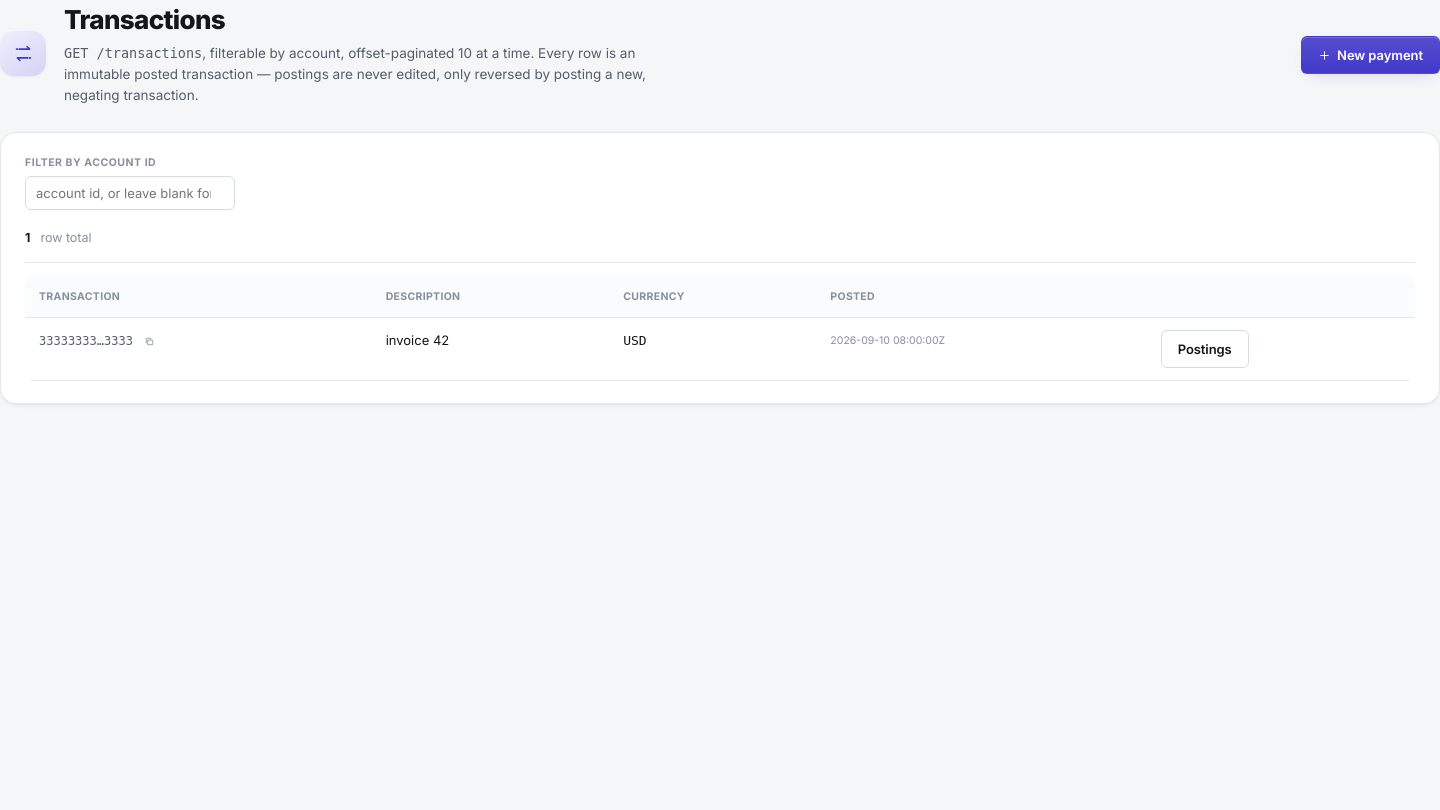
Test: LedgerTransactionsPage › reverses a transaction from its expanded postings, behind a confirm dialog
Click the button "Postings". click: (1205, 349)
box: [1161,330,1249,368]
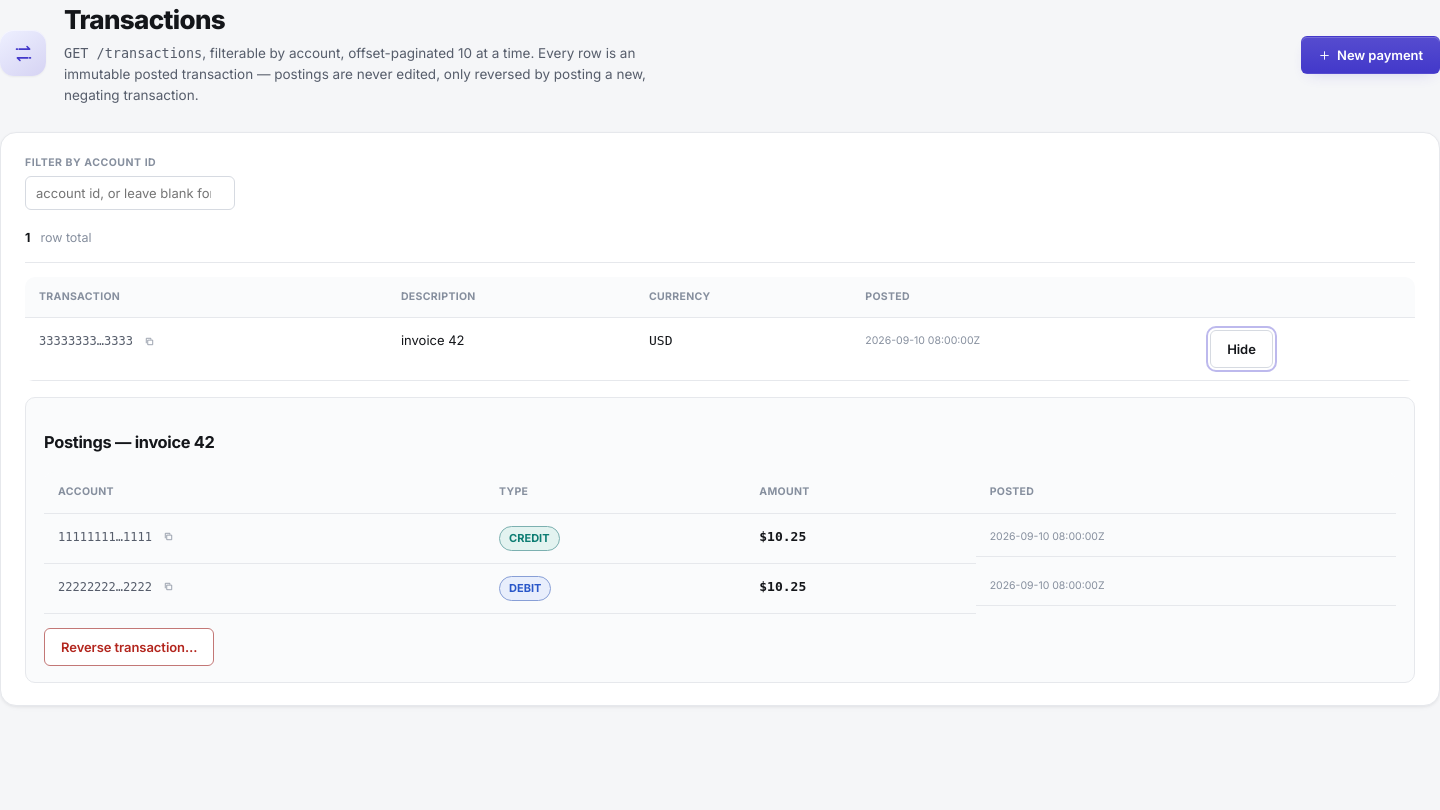
Click the button "Reverse transaction…". click: (129, 647)
box: [44,628,214,666]
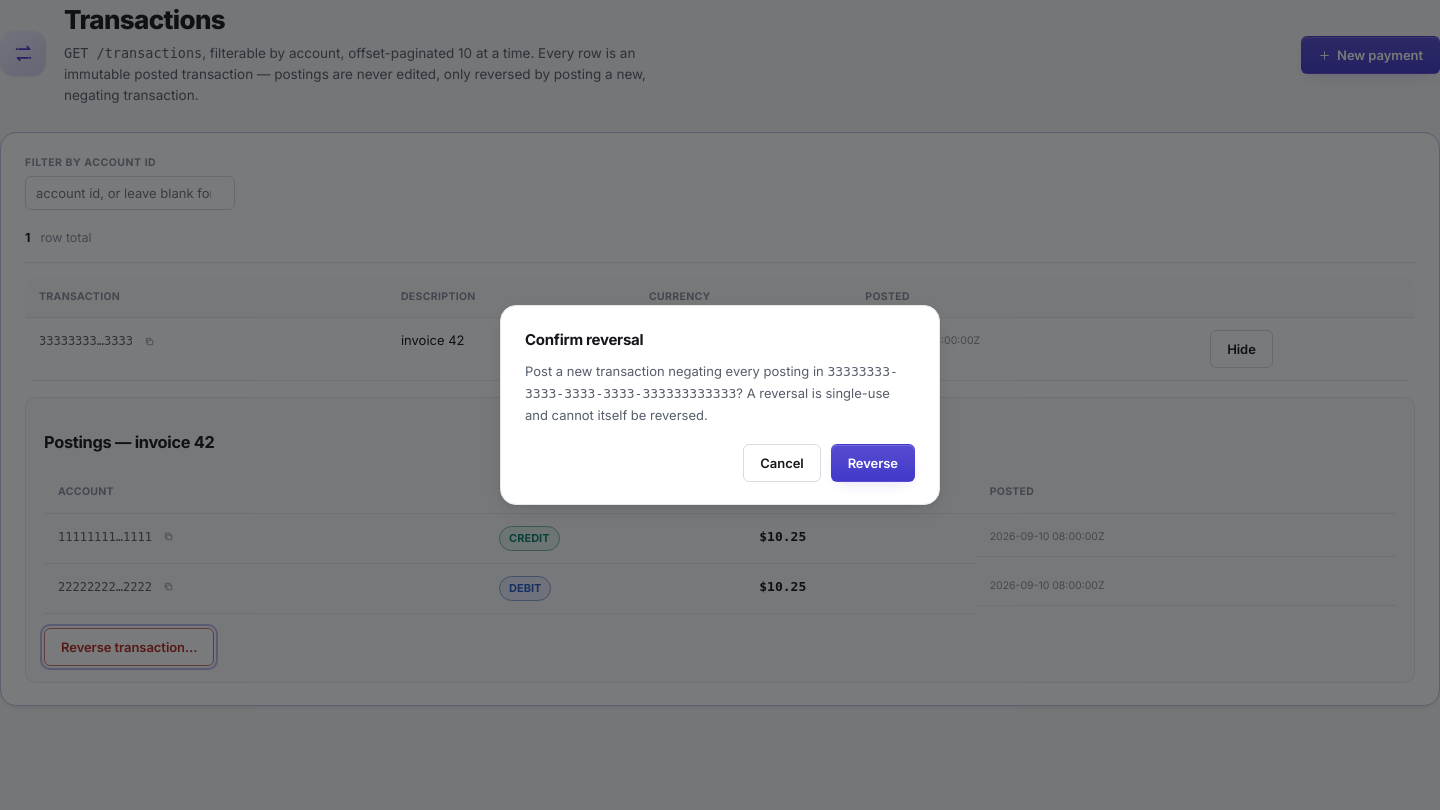
Click the button "Reverse". click: (873, 463)
box: [831,444,915,482]
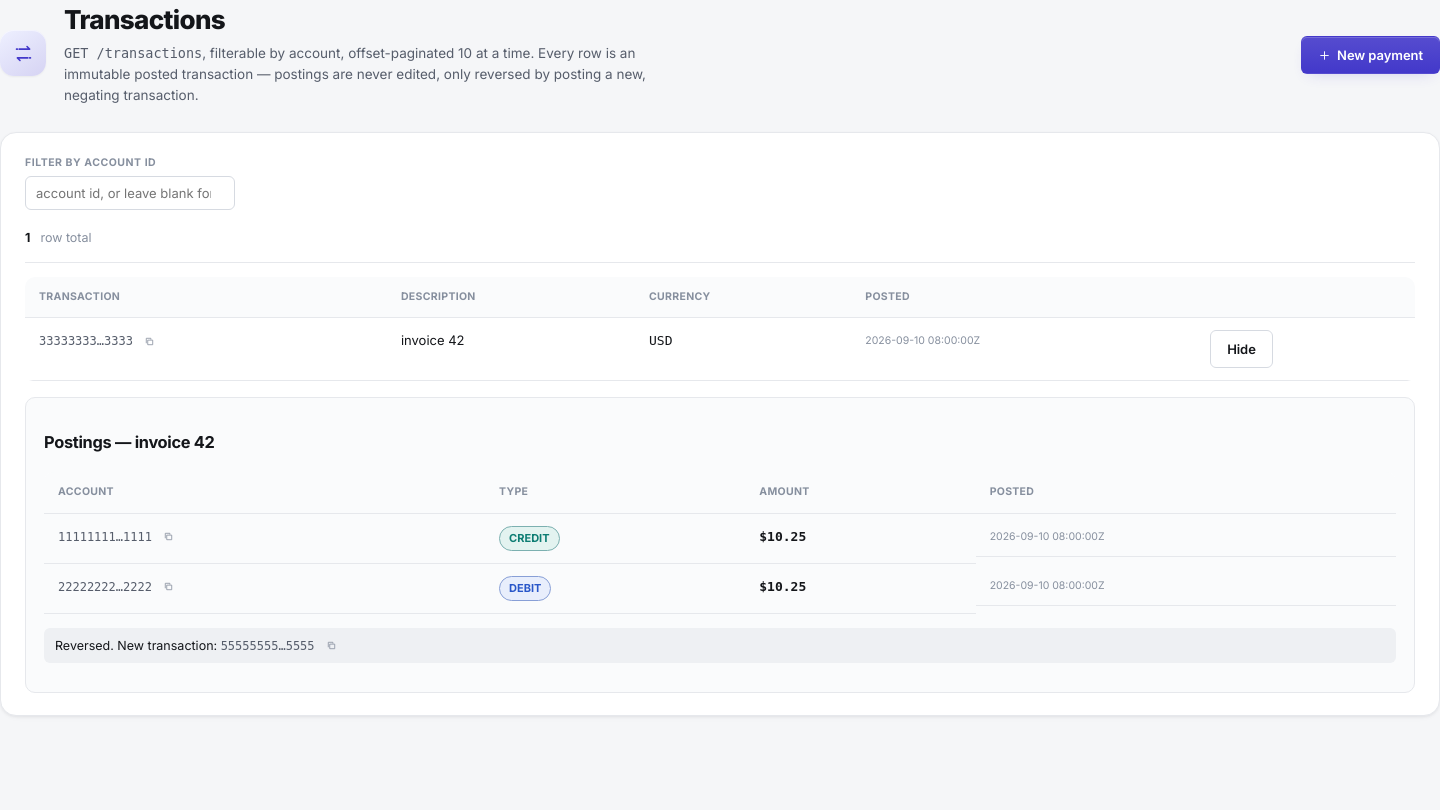
Check: the text "Reversed. New transaction: 55555555…5555" is shown, box [44,628,1396,663]
Check: the dialog is gone
